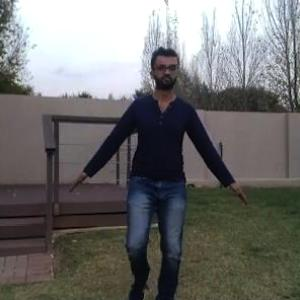land: (56, 39, 256, 299)
